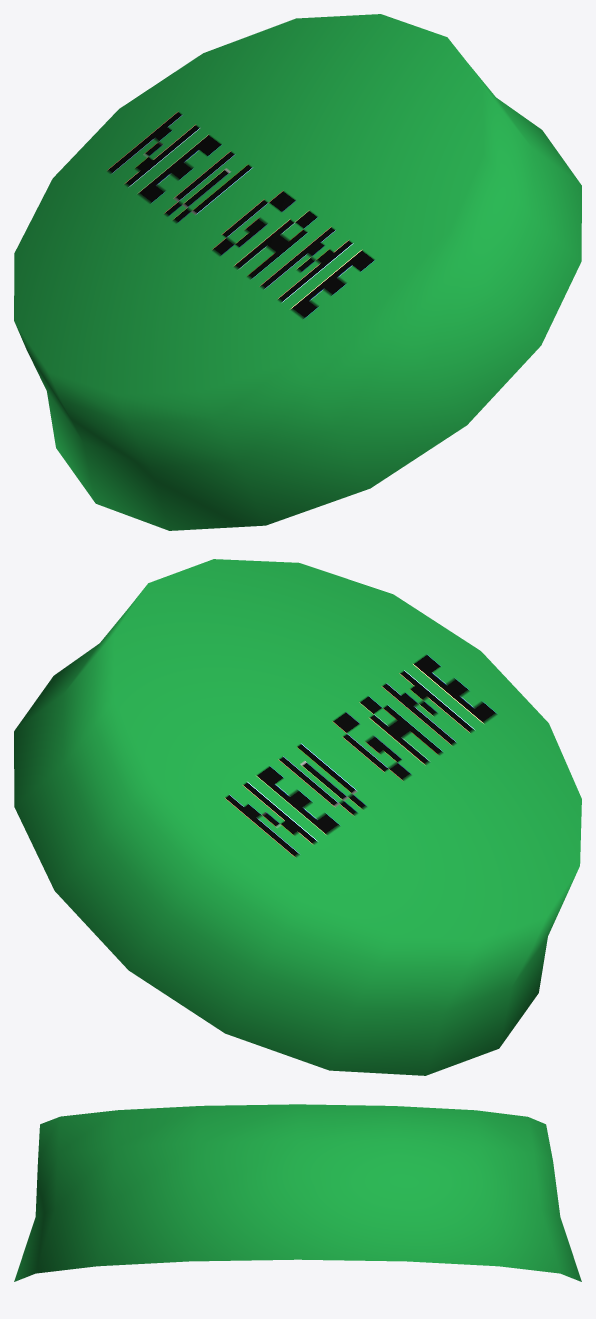
File: button.gltf
The picture shows the model from 3 angles, top to bottom: view 1: azimuth 30°, elevation 25°; view 2: azimuth 150°, elevation 25°; view 3: azimuth 270°, elevation 25°; orthographic projection. The views are drawn at different scales.
Parts seen in each view (by area): view 1: Node; view 2: Node; view 3: Node.
Boxes of the visible parts, left/top/right/bottom form: Node: left=14, top=14, right=581, bottom=530; Node: left=14, top=559, right=581, bottom=1075; Node: left=14, top=1104, right=581, bottom=1281.
Size of the model in its own units: 0.5505 by 0.4051 by 0.5716.
Materials: 1 (1 with a texture image).
